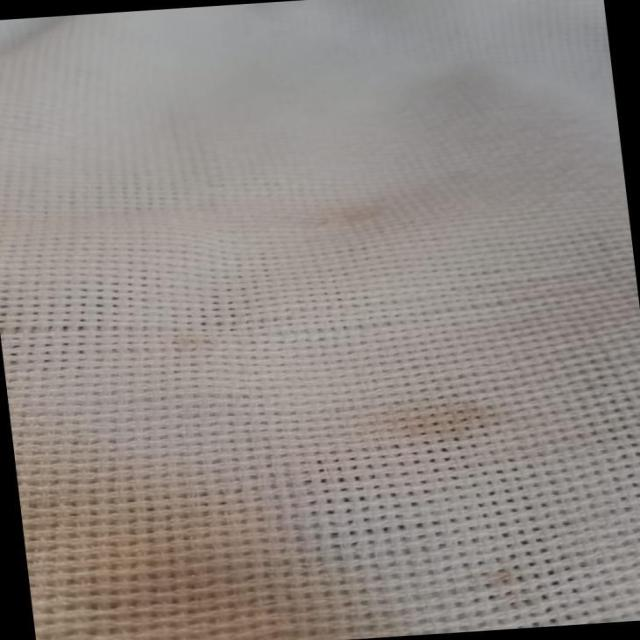stain: (369, 376, 530, 462), (297, 184, 431, 244), (475, 554, 560, 620)
